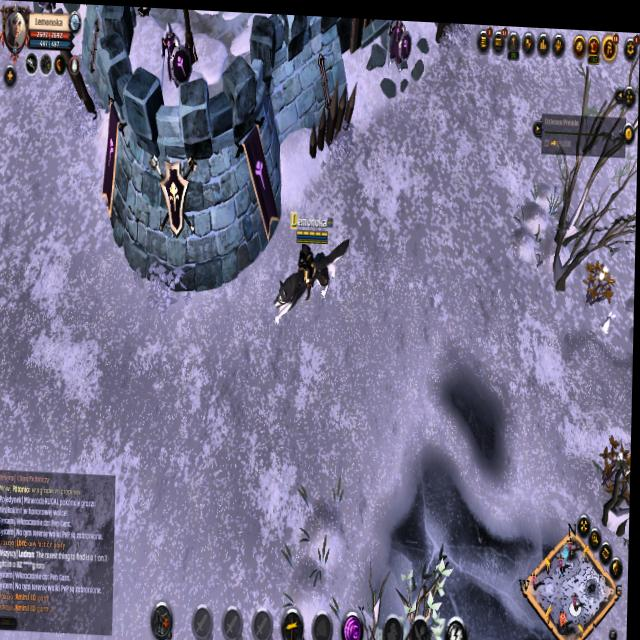fiber tier 2: (585, 249, 617, 306)
